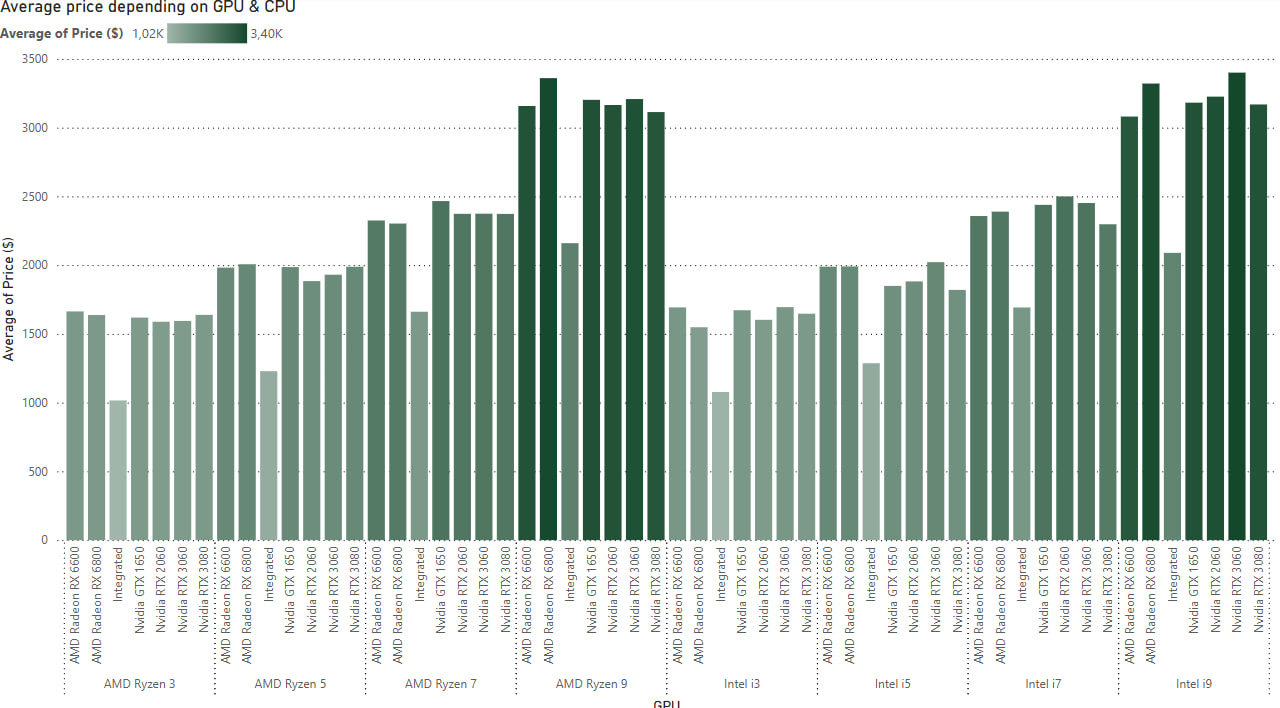

What the dashboard file says about the page in this screenshot:
{"tool":"powerbi","page":{"name":"Page 2","canvas":[1280,720],"ordinal":1},"visuals":[{"type":"clusteredColumnChart","title":"Average price depending on GPU & CPU","fields":{"Category":["laptop_edited.Processor","laptop_edited.GPU"],"Y":["Sum(laptop_edited.Price ($))"]},"box":[0,0,1280.3,720.4],"z":0}]}

Visuals, with their boxes in screenshot pixels (x1, y1, x2, y2), scaled from the page's 1280x720 canvas onto the 1280x708 screenshot:
"Average price depending on GPU & CPU" clusteredColumnChart: <region>0, 0, 1279, 707</region>
